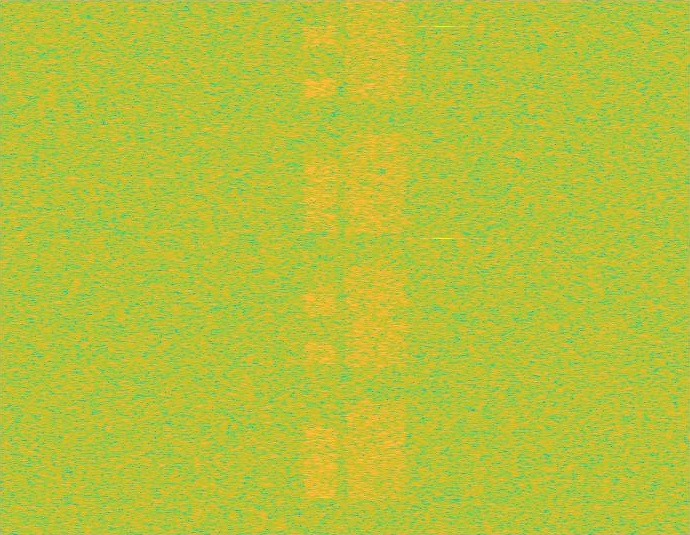5G: (342, 0, 411, 534)
LTE: (303, 0, 337, 534)
Radar: (437, 0, 450, 534)
